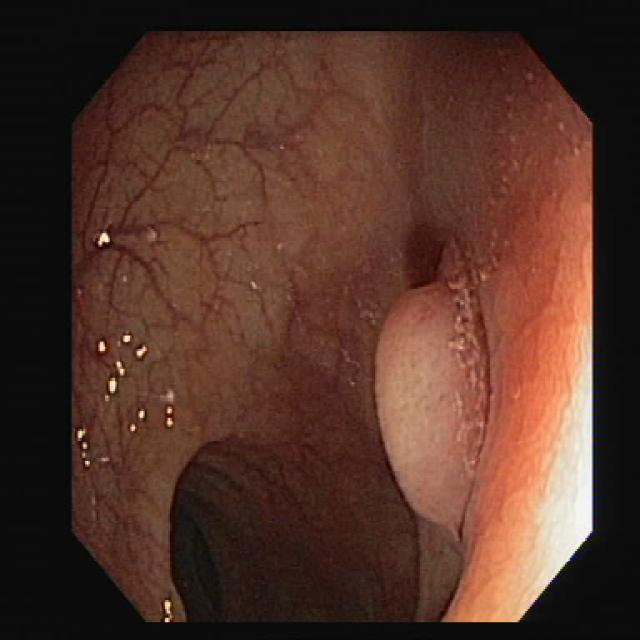tumor: (377, 267, 490, 538)
